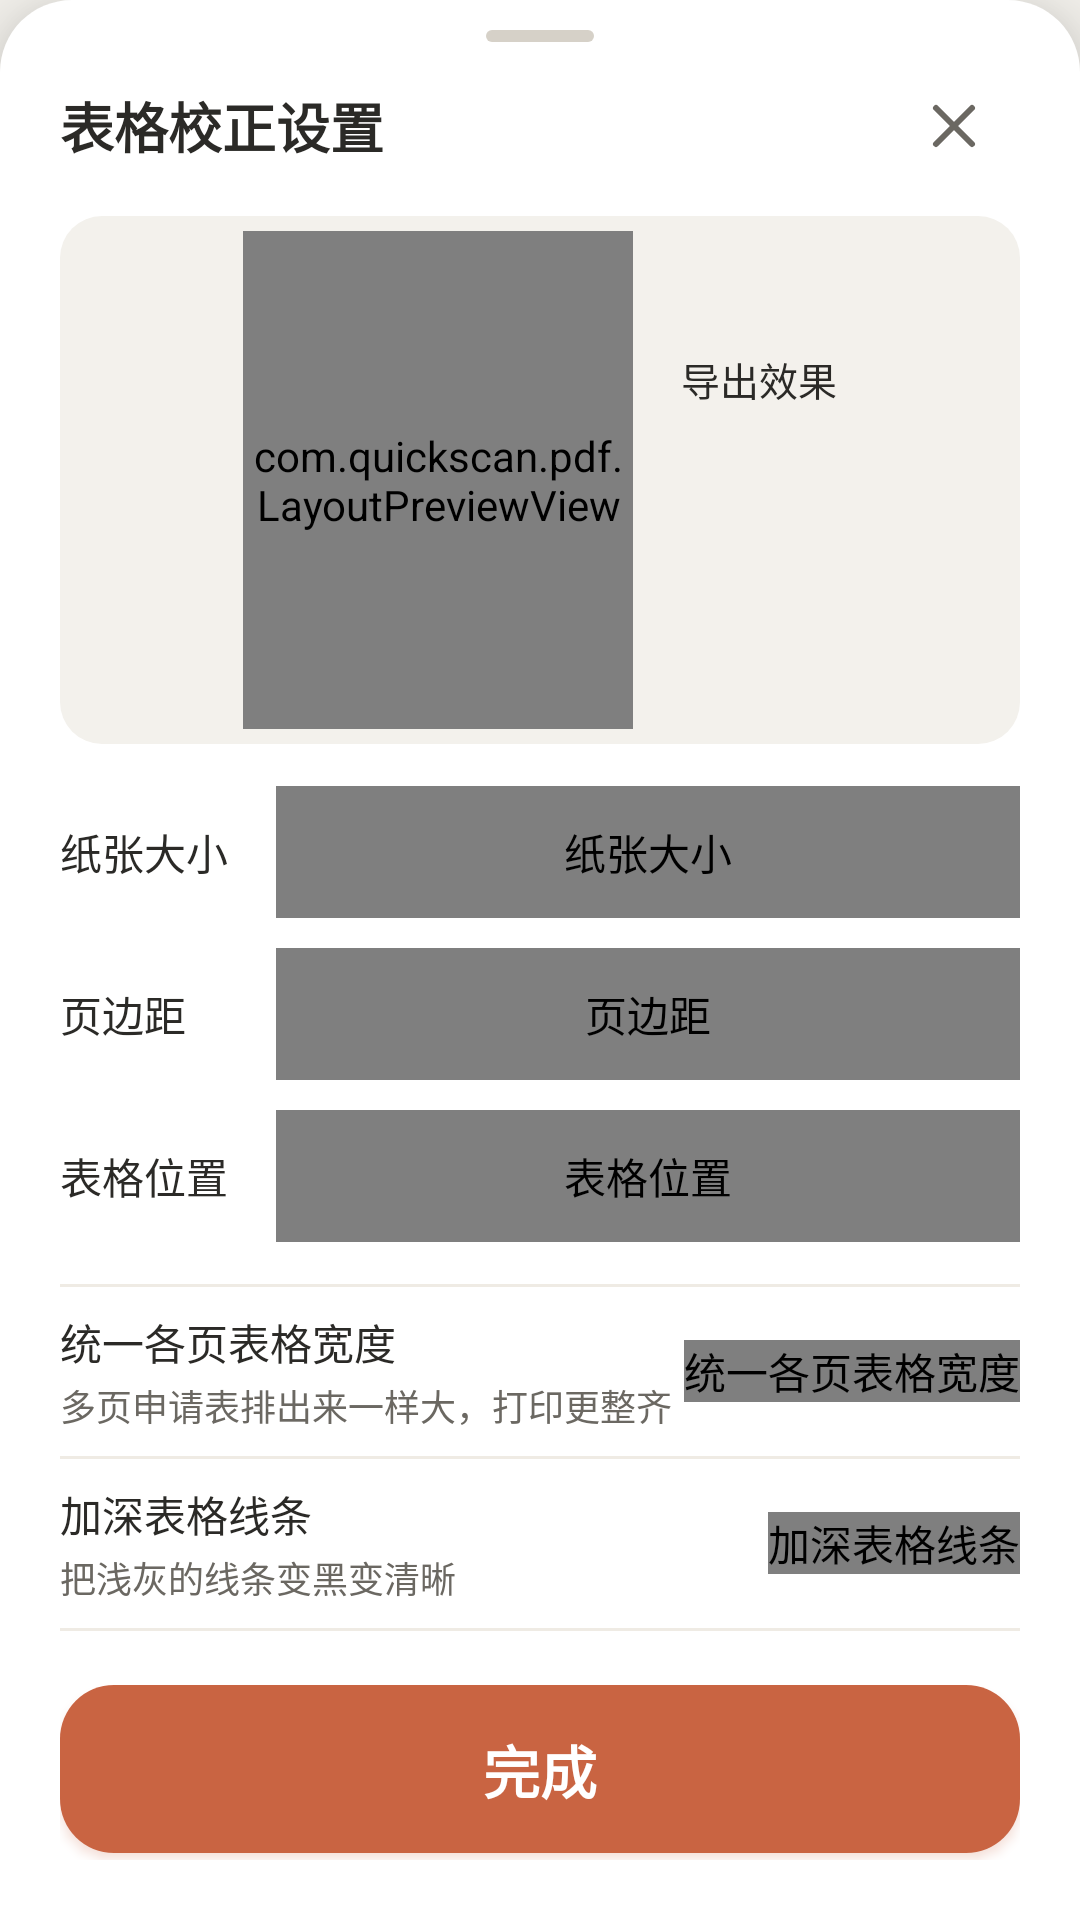

Screen size 1080w x 1920h. Icon name, then its box in pixels as (x1, y1, x2, y2):
关闭: (933, 105, 975, 147)
